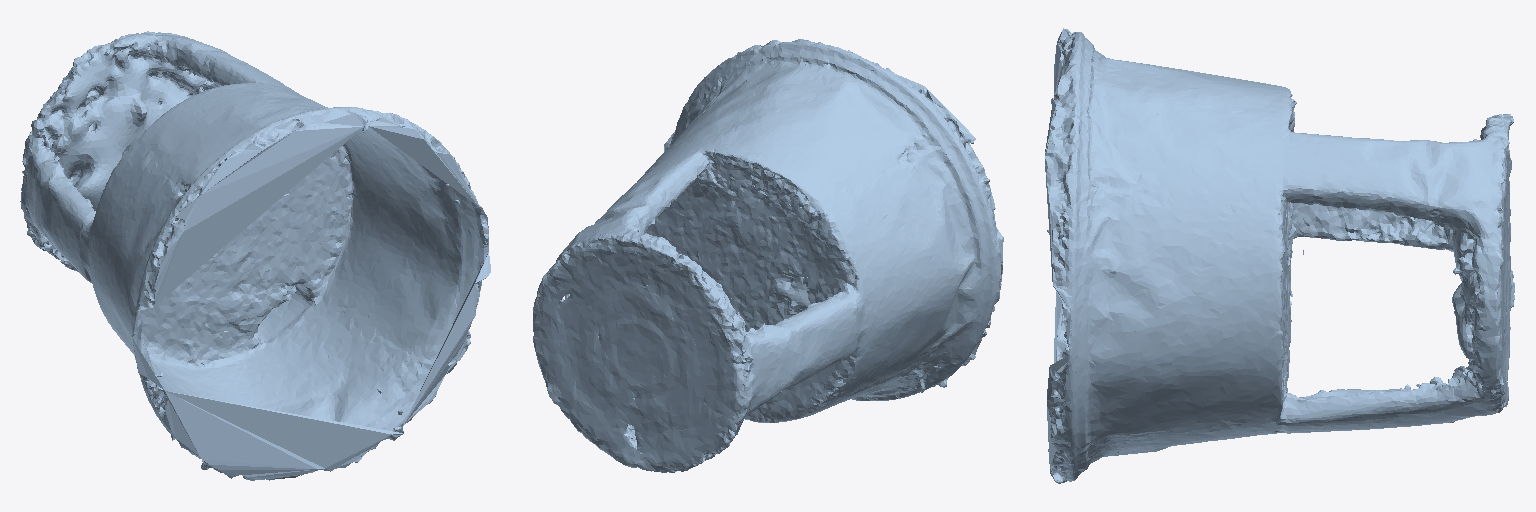
robot.urdf — stool.urdf:
<?xml version="1.0" ?>
<robot name="stool.urdf">
  <dynamics damping="0.5" friction="0.9"/>
  <link name="baseLink">
    <contact>
      <lateral_friction value="0.9"/>
      <rolling_friction value="0.5"/>
      <stiffness value="30000"/>
      <damping value="1000"/>
    </contact>
    <visual>
      <origin rpy="0 0 0" xyz="0 0 0"/>
      <geometry>
        <mesh filename="objects/stool/stool.obj" scale="1.0 1.0 1.0"/>
      </geometry>
       <material name="mat">
        <color rgba="0.7 0.8 0.9 1"/>
      </material>
    </visual>
    <collision>
      <origin rpy="0 0 0" xyz="0 0 0"/>
      <geometry>
         <mesh filename="objects/stool/stool.obj" scale="1.0 1.0 1.0"/>
      </geometry>
    </collision>
  </link>
</robot>

--- What the picture shows (computed from the rendered views, not written in the file) ---
Views: 3 orthographic renders of the robot side by side, from view 1: azimuth 30°, elevation 25°; view 2: azimuth 150°, elevation 25°; view 3: azimuth 270°, elevation 25°.
Model stool.urdf with 1 links and 0 joints (none), rooted at baseLink, posed every joint at zero.
Links seen in each view (by area): view 1: baseLink; view 2: baseLink; view 3: baseLink.
Boxes of the visible links, <box> form: baseLink: <box>20,31,490,480</box>; baseLink: <box>533,39,1003,472</box>; baseLink: <box>1045,28,1514,483</box>.
Bounding box of the posed robot: 0.4488 × 0.4554 × 0.4368 m (x, y, z).
Meshes: 1 distinct files referenced, 1 mesh visuals loaded (1 OBJ).
